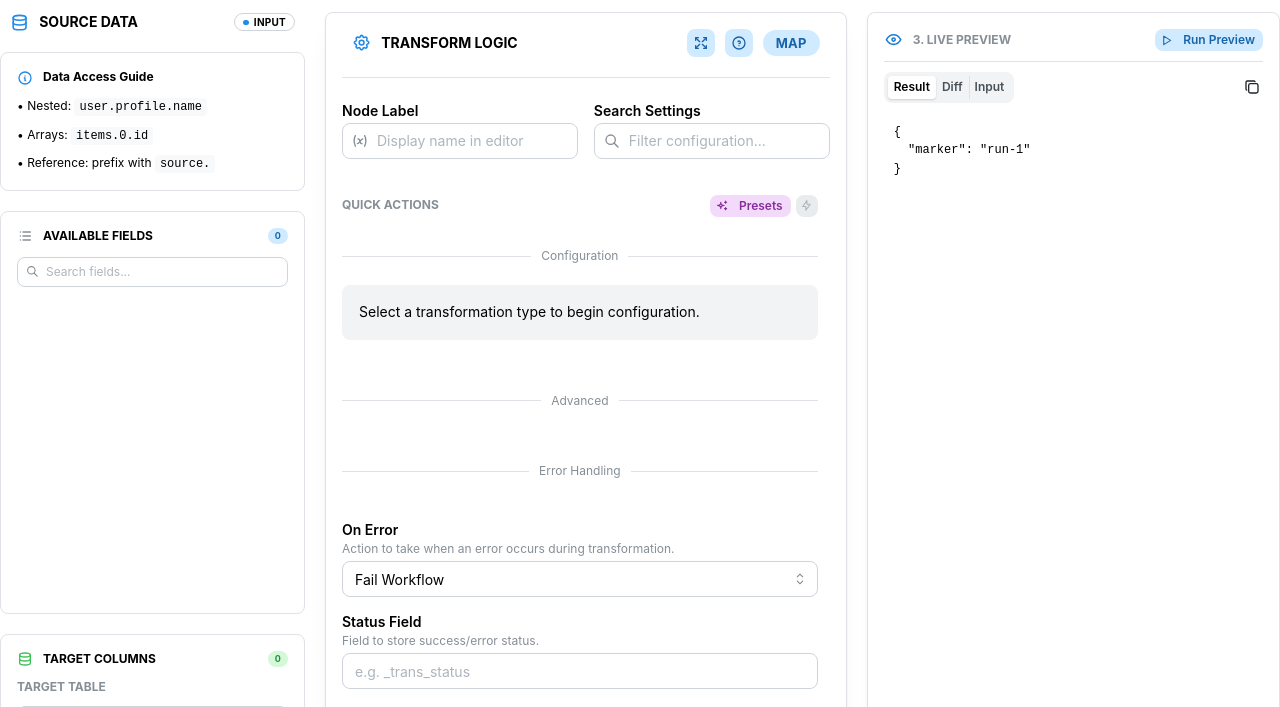
Test case: TransformationForm stability › keeps showing the previous result while a re-run is in flight
Expected: the text "{ \"marker\": \"run-1\" }" is shown, [894,125,1030,176]
Step 1. Click the button "Run Preview" → (1209, 40), box [1155,29,1263,51]
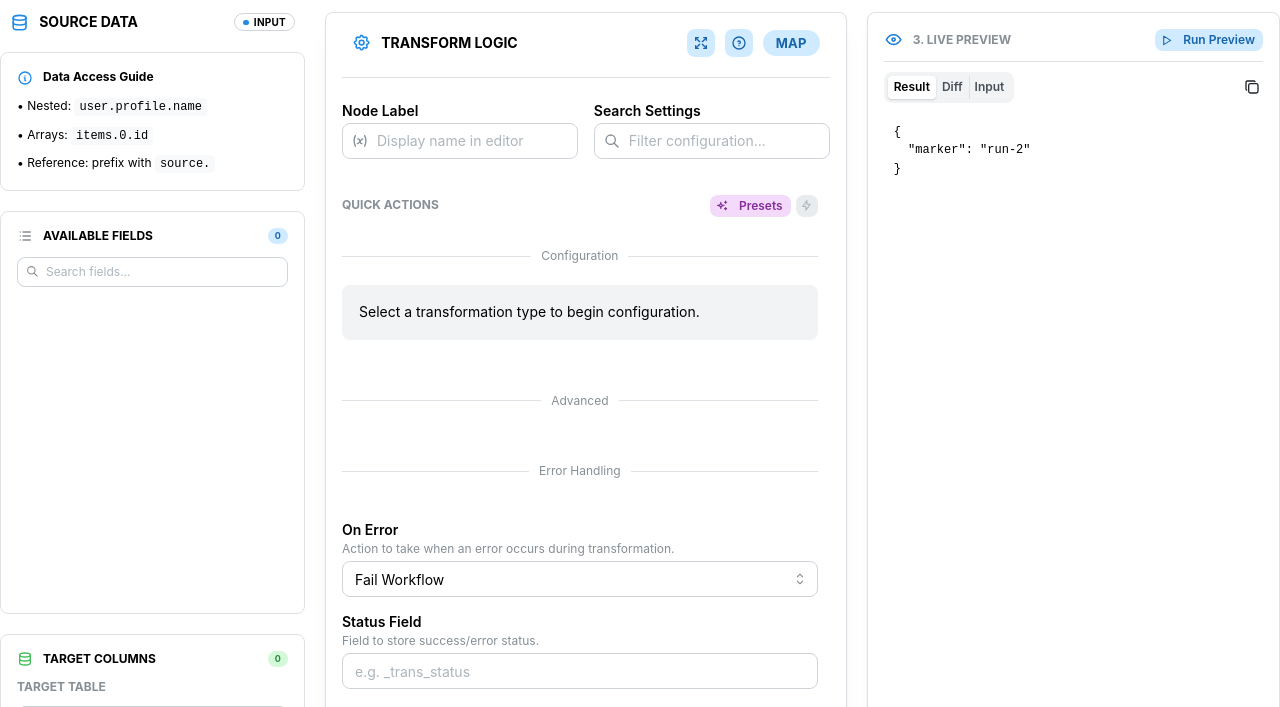
Expected: the text "{ \"marker\": \"run-2\" }" is shown, [894,125,1030,176]
